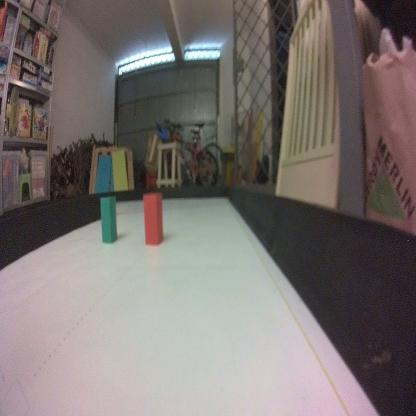green: (99, 192, 117, 244)
red: (142, 190, 163, 249)
